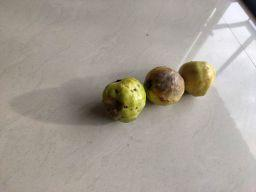guava: (98, 75, 148, 125), (142, 65, 186, 107), (179, 59, 216, 99)
